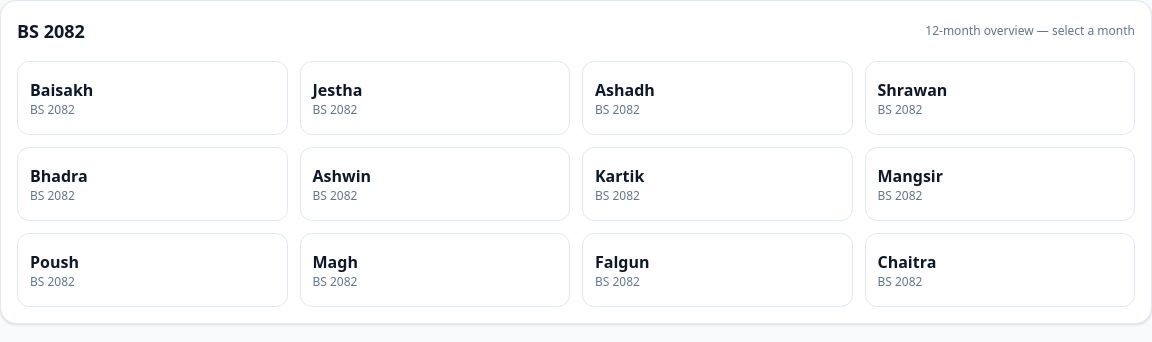
Test: NepaliCalendar › shows 12-month overview when initialView is year and drills into a month
Check: the heading "BS 2082" is shown, box [17,17,85,45]
Click the button with aria-label "Open Baisakh 2082" at point(62, 90), box [17,61,288,135]
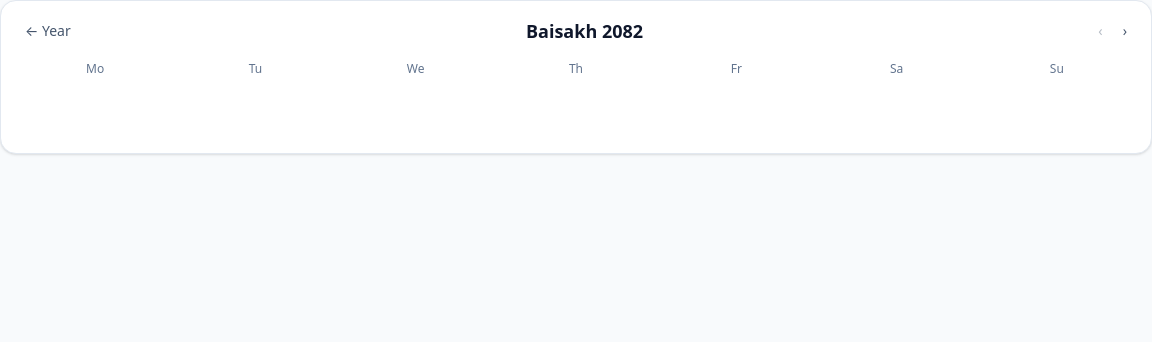
Check: the text "Baisakh 2082" is shown, box [526,17,643,45]
Check: the button named "Previous month" is disabled, box [1090,17,1111,45]
